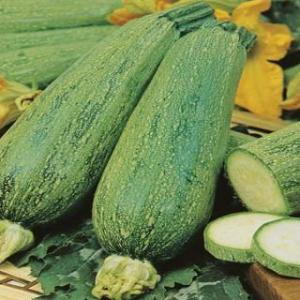zucchini: (8, 7, 222, 229), (97, 31, 270, 254)
